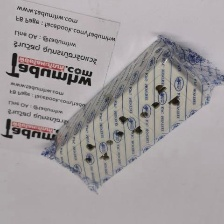three_eye_plug: (47, 36, 209, 187)
